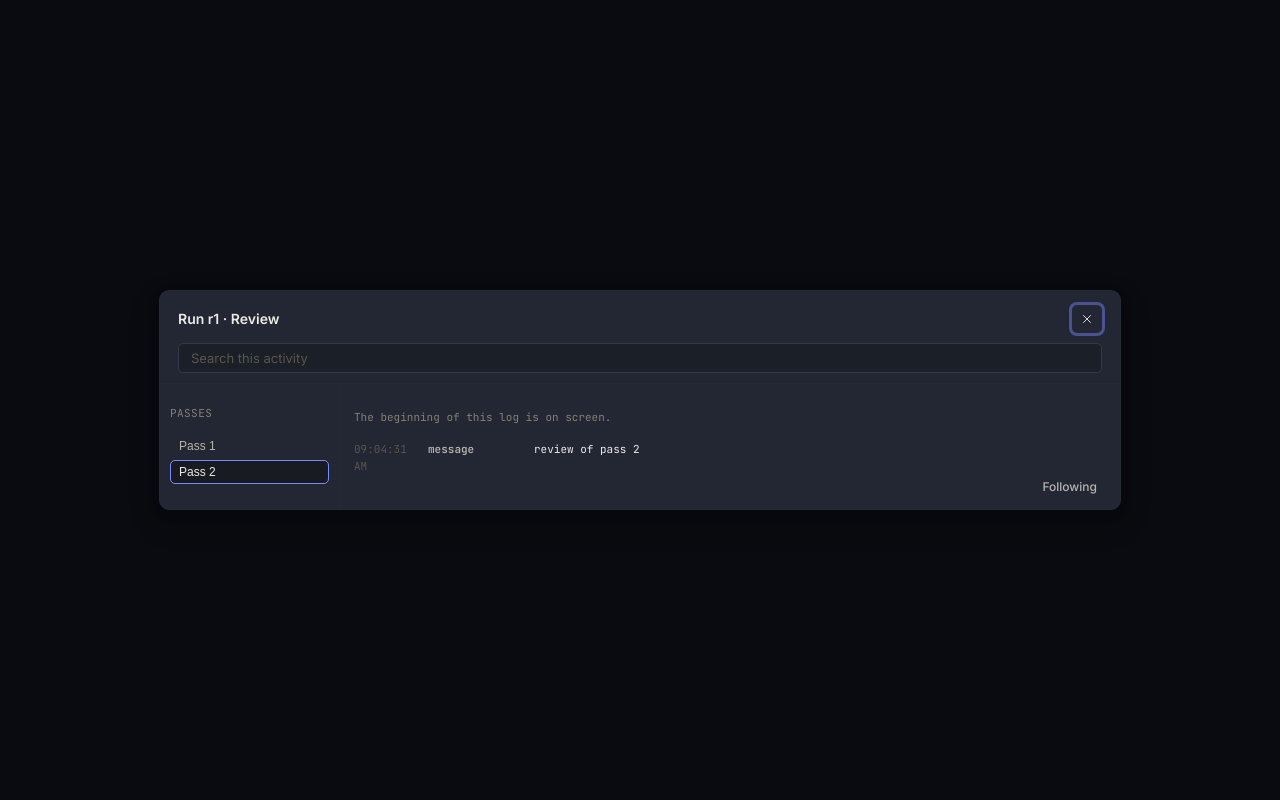
Test: the review phase after the run returns to working › GLW-FR-JMXD, GLW-FR-EUTW: each listed pass reads and shows only its own rows
Expected: the text "review of pass 2" is shown, x1=534 y1=442 x2=640 y2=456
Click the button "Pass 1" at [250, 446], box x1=170 y1=434 x2=329 y2=458
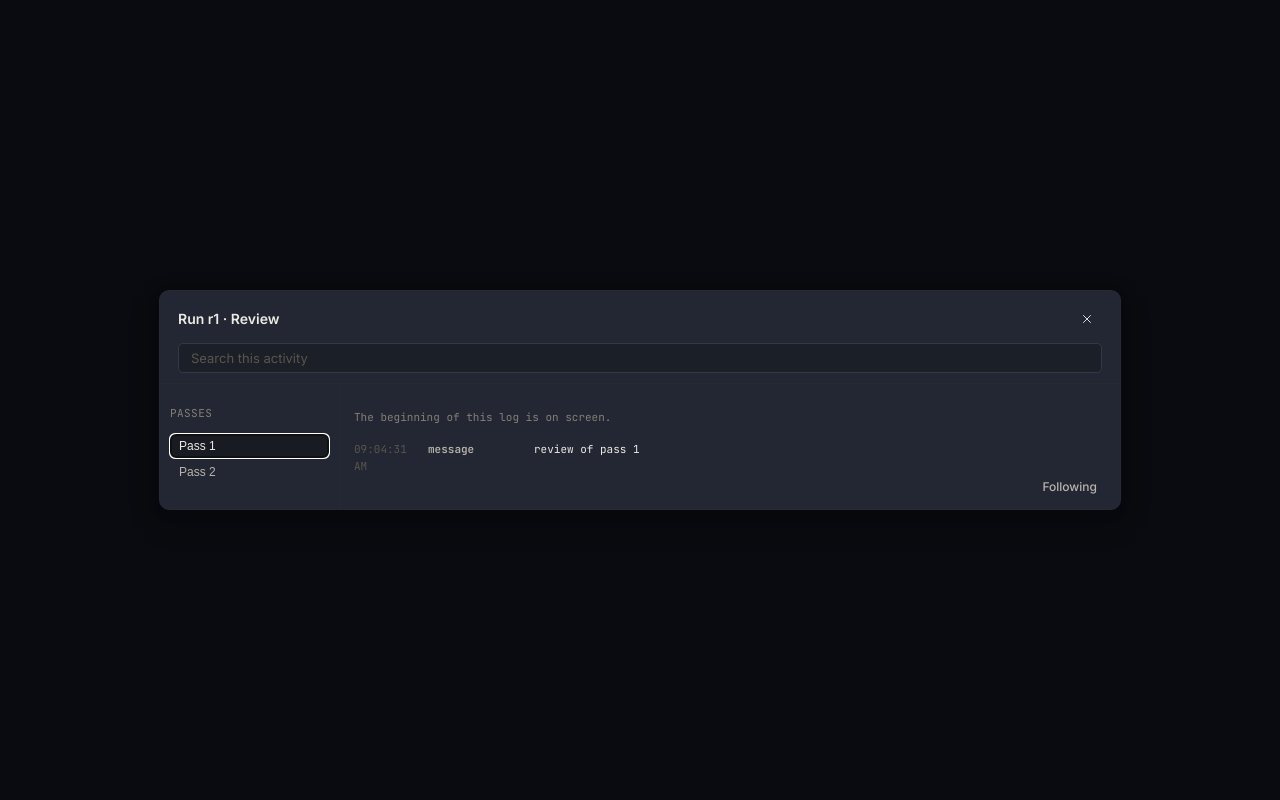
Now the text "review of pass 1" is shown, box x1=534 y1=442 x2=640 y2=456
Now the text "review of pass 2" is gone
Click the button "Pass 2" at [250, 472], box x1=170 y1=460 x2=329 y2=484
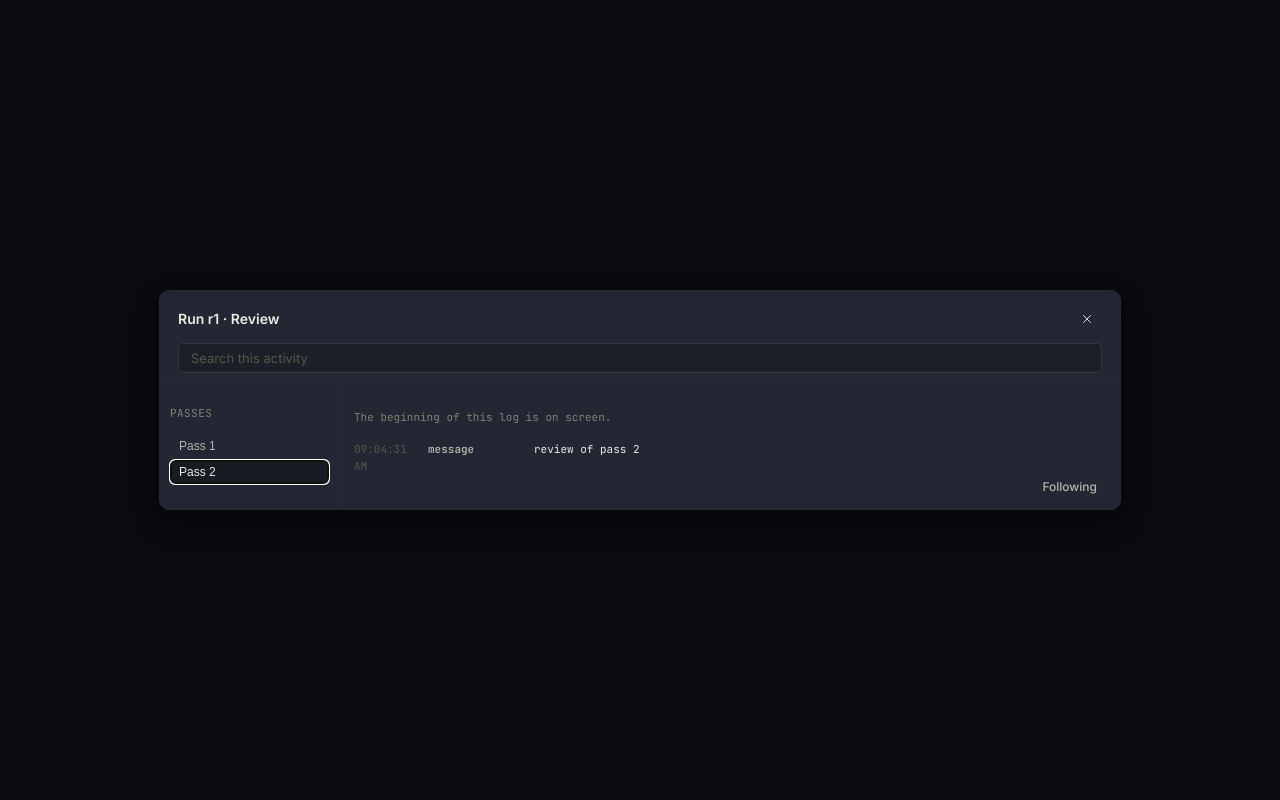
Now the text "review of pass 2" is shown, box x1=534 y1=442 x2=640 y2=456
Now the text "review of pass 1" is gone
